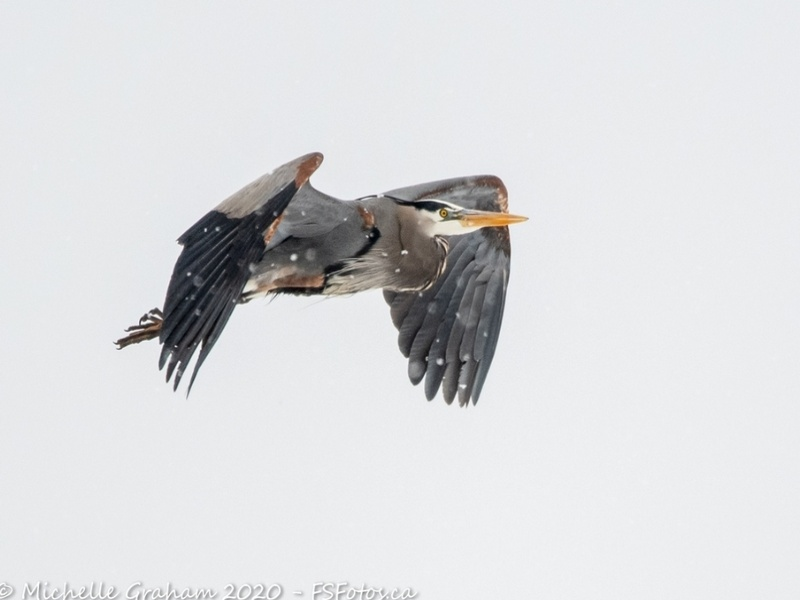heron: (114, 153, 533, 406)
